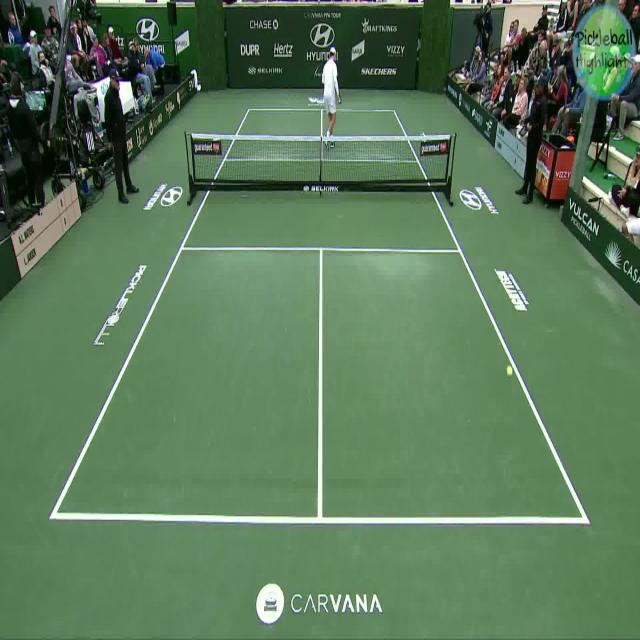ball: (503, 360, 516, 382)
